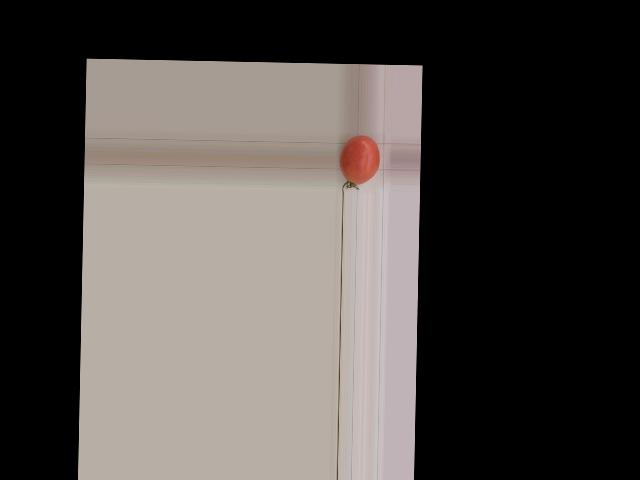tomato: (339, 135, 380, 185)
